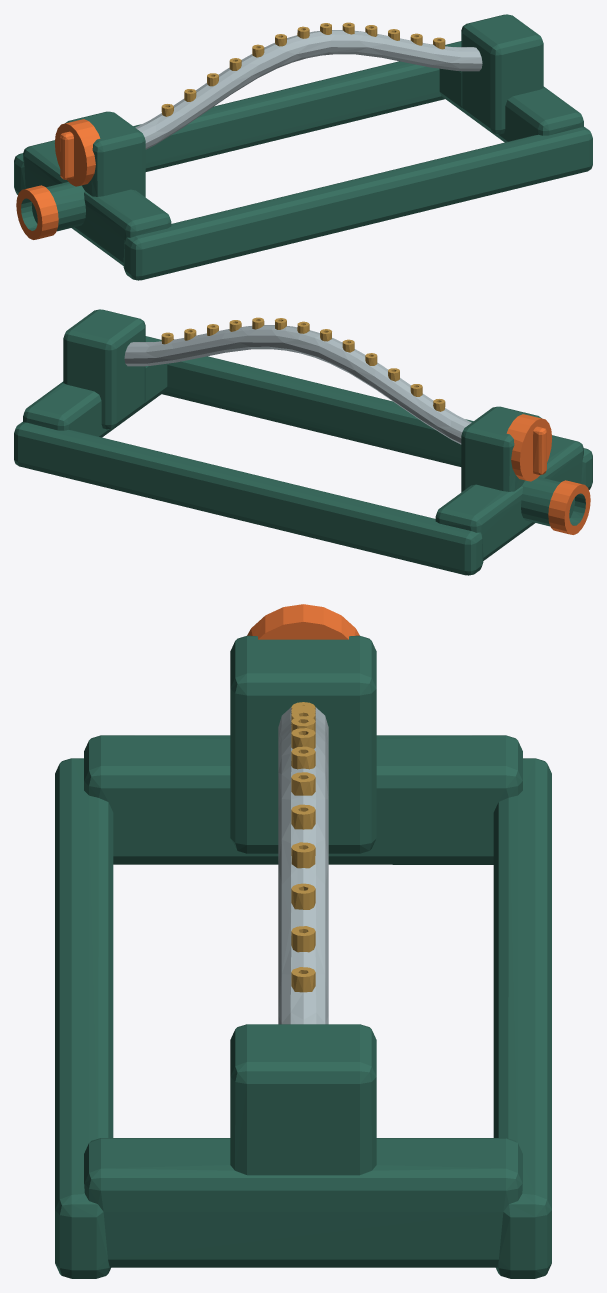
The model's file is NEW_RECOVERY_113_LOD1.glb.
3 views of the same model, one above another, from view 1: azimuth 30°, elevation 25°; view 2: azimuth 150°, elevation 25°; view 3: azimuth 270°, elevation 25° (orthographic). The views are drawn at different scales.
Visible parts, largest first — view 1: Oscillating sprinkler static prop; view 2: Oscillating sprinkler static prop; view 3: Oscillating sprinkler static prop.
Part boxes in pixels (box(x1,y1,x2,y2)): Oscillating sprinkler static prop: box(14, 14, 592, 280); Oscillating sprinkler static prop: box(14, 309, 592, 575); Oscillating sprinkler static prop: box(55, 604, 551, 1278).
Size of the model in its own units: 0.558 by 0.163 by 0.238.
